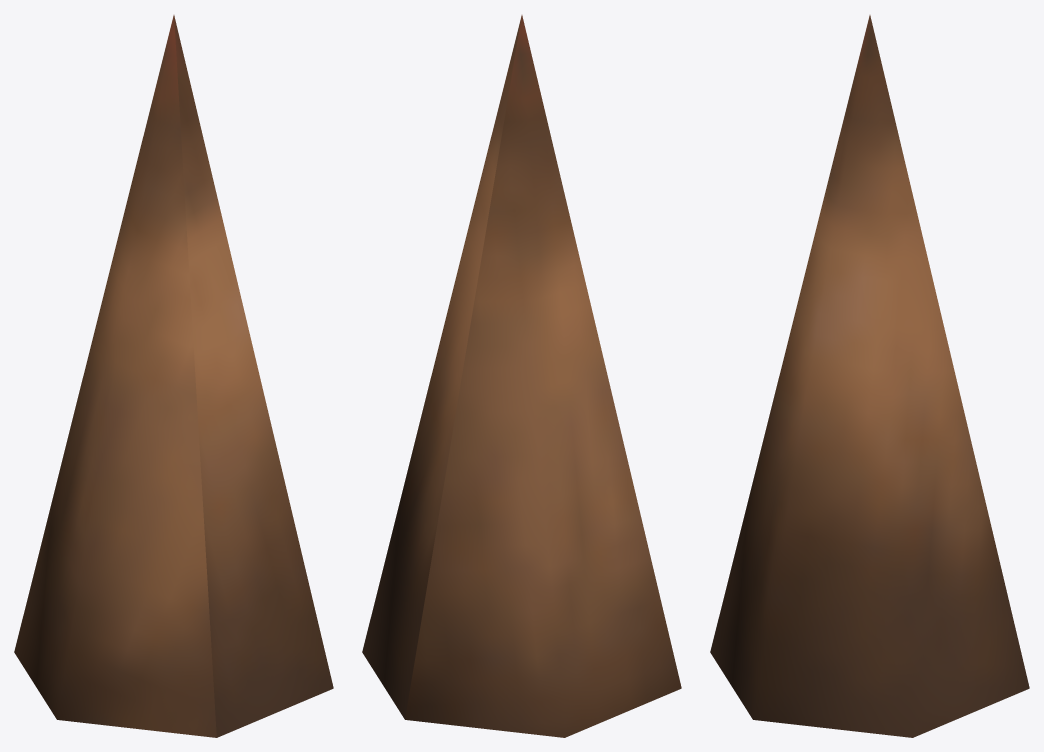
Rendered from sn_jiguan_shitai_006.FBX.
3 renders of one model, left to right at view 1: azimuth 30°, elevation 25°; view 2: azimuth 150°, elevation 25°; view 3: azimuth 270°, elevation 25°, orthographic.
Visible parts, largest first — view 1: sn_jiguan_shitai_006; view 2: sn_jiguan_shitai_006; view 3: sn_jiguan_shitai_006.
Part boxes in pixels (left/top/right/bottom): sn_jiguan_shitai_006: left=14, top=15, right=333, bottom=737; sn_jiguan_shitai_006: left=362, top=15, right=681, bottom=737; sn_jiguan_shitai_006: left=710, top=15, right=1029, bottom=737.
Size of the model in its own units: 42.15 by 95.52 by 42.15.
